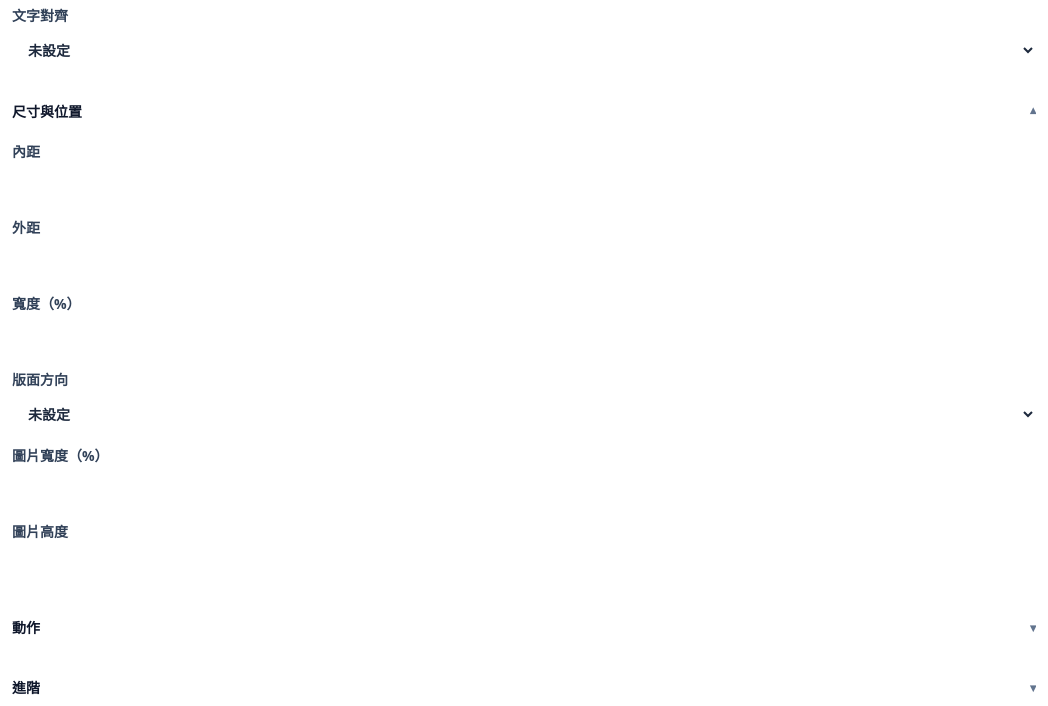
Test: button action picker: 開啟報名表 › explains when the bound live has no usable form
The image size is (1048, 706).
(page scrolled)
Click the button "動作 ▾" at x=26, y=628, box x1=12 y1=610 x2=1036 y2=646
(page scrolled)
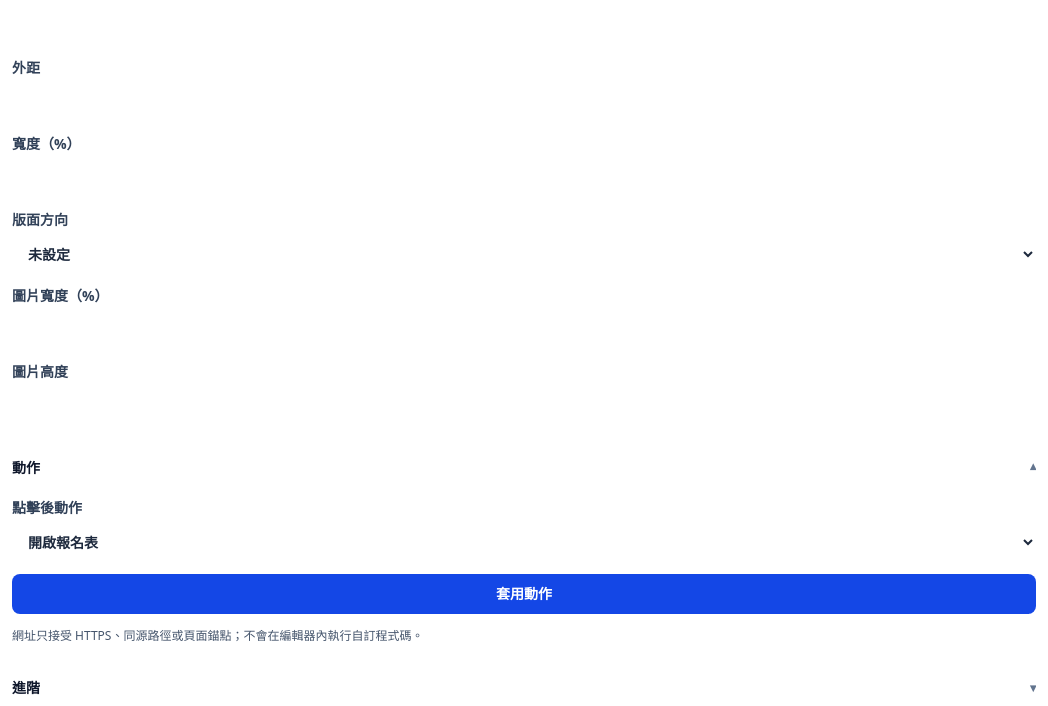
Select "開啟報名表" in the dropdown labelled "點擊後動作" at x=524, y=542, box x1=12 y1=522 x2=1036 y2=562
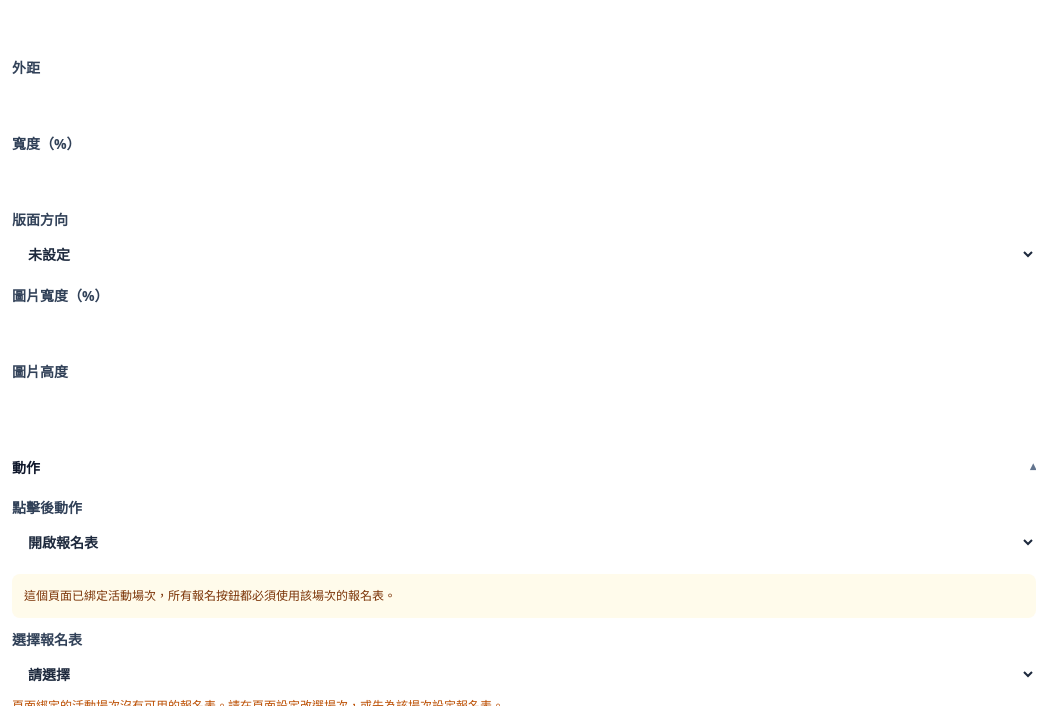
Expected: the dropdown labelled "選擇報名表 頁面綁定的活動場次沒有可用的報名表。請在頁面設定改選場次，或先為該場次設定報名表。" is disabled, x1=12 y1=654 x2=1036 y2=694
